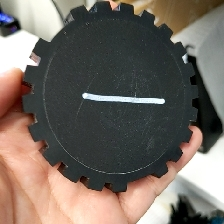gear: (20, 1, 200, 193)
missing: (31, 2, 90, 62), (109, 159, 168, 195)
